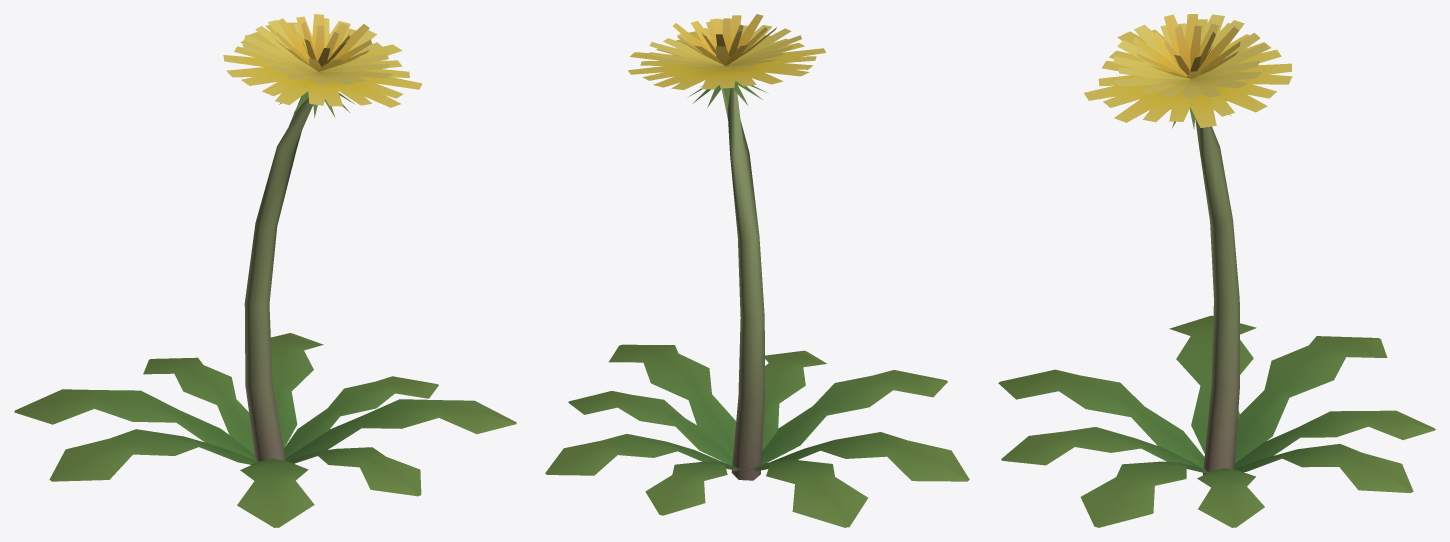
Rendered from dandelion_bloom.glb.
The picture shows the model from 3 angles, left to right: view 1: azimuth 30°, elevation 25°; view 2: azimuth 150°, elevation 25°; view 3: azimuth 270°, elevation 25°; orthographic projection. The views are drawn at different scales.
Parts seen in each view (by area): view 1: dandelion_bloom; view 2: dandelion_bloom; view 3: dandelion_bloom.
Boxes of the visible parts, x1=… form: dandelion_bloom: x1=14, y1=14, x2=516, y2=527; dandelion_bloom: x1=545, y1=14, x2=969, y2=527; dandelion_bloom: x1=998, y1=14, x2=1435, y2=527.
Bounding box in the file's own units: 2.23 × 2.29 × 1.96.
